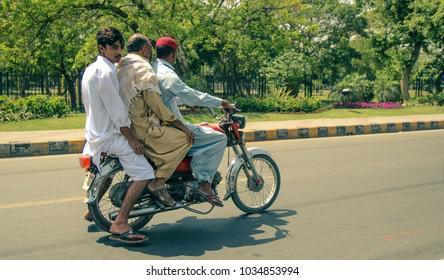motorcycle: (47, 77, 329, 240)
